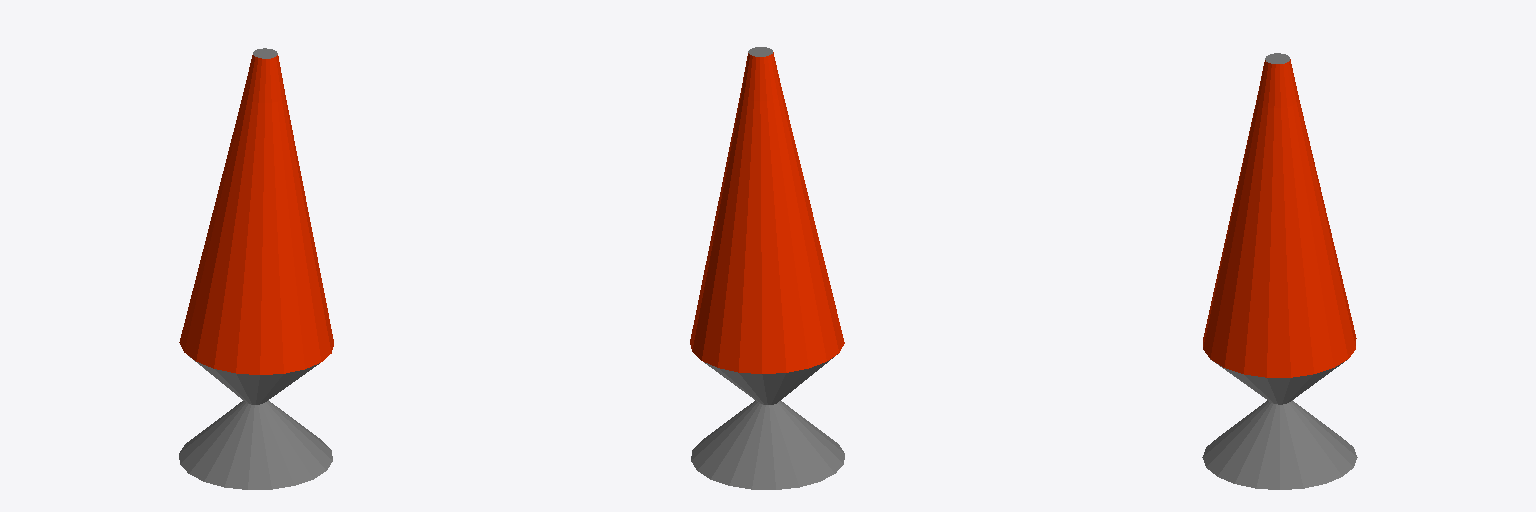
The model's file is Lamp_Textured.obj.
3 views of the same model, side by side, from view 1: azimuth 30°, elevation 25°; view 2: azimuth 150°, elevation 25°; view 3: azimuth 270°, elevation 25° (orthographic).
Visible parts, largest first — view 1: pCone1 pCone2, pCone1; view 2: pCone1 pCone2, pCone1; view 3: pCone1 pCone2, pCone1.
Part boxes in pixels (bbox=[...]): pCone1 pCone2: bbox=[179, 48, 333, 404]; pCone1: bbox=[179, 400, 332, 489]; pCone1 pCone2: bbox=[690, 47, 844, 404]; pCone1: bbox=[691, 400, 844, 489]; pCone1 pCone2: bbox=[1203, 53, 1356, 404]; pCone1: bbox=[1202, 400, 1357, 489].
Size of the model in its own units: 5.58 by 15.97 by 5.57.